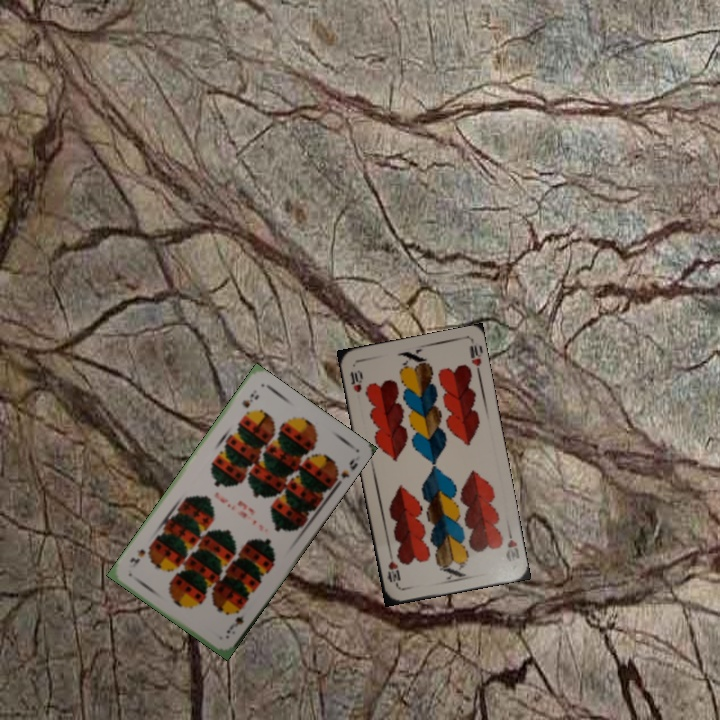H10: (502, 525, 522, 564), (346, 366, 365, 395)
S9: (222, 612, 247, 636), (237, 389, 261, 411)
